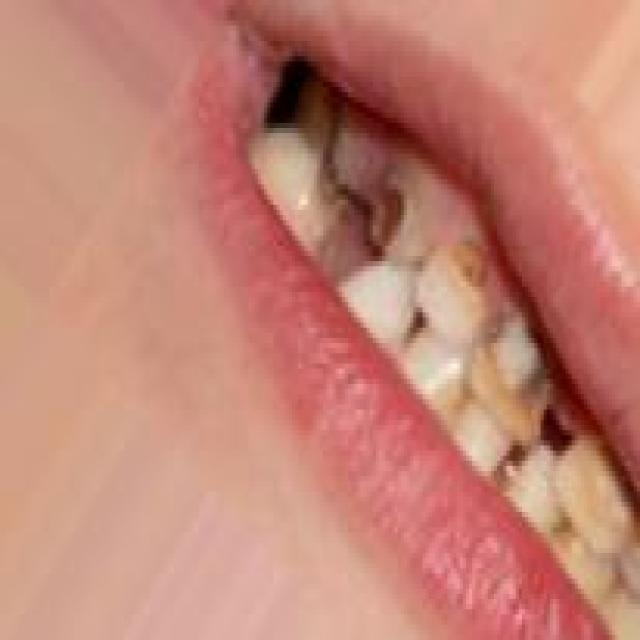caries: (468, 309, 554, 446), (360, 161, 427, 264), (303, 124, 354, 246), (433, 219, 492, 303)
